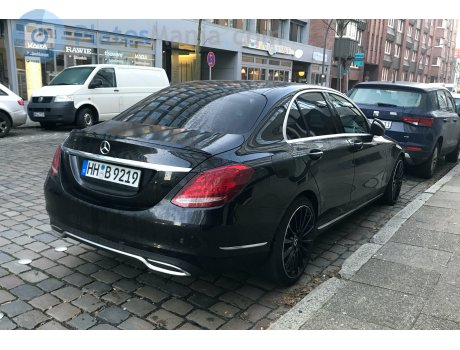License Plates: (89, 158, 137, 182)
